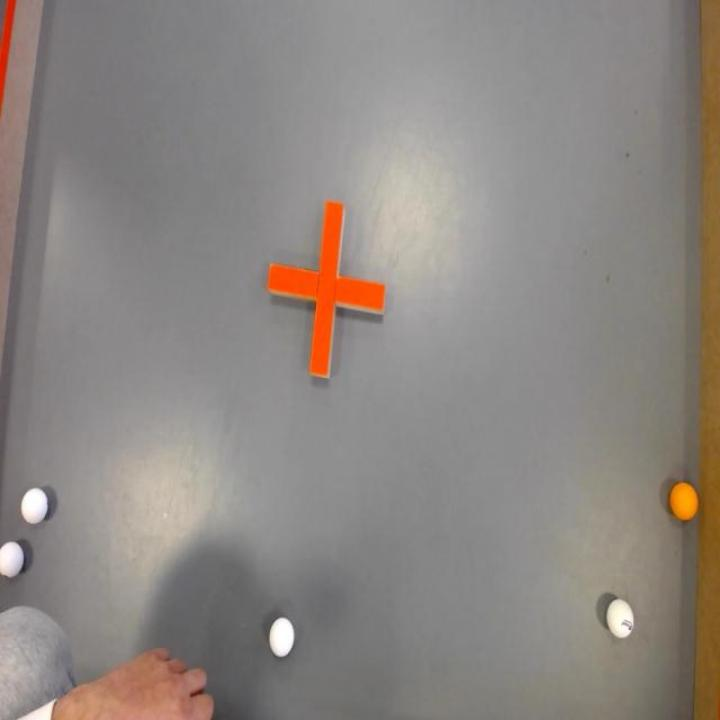orange: (665, 474, 701, 532)
white: (267, 614, 299, 664), (605, 594, 636, 645), (18, 485, 52, 526), (0, 538, 27, 580)
